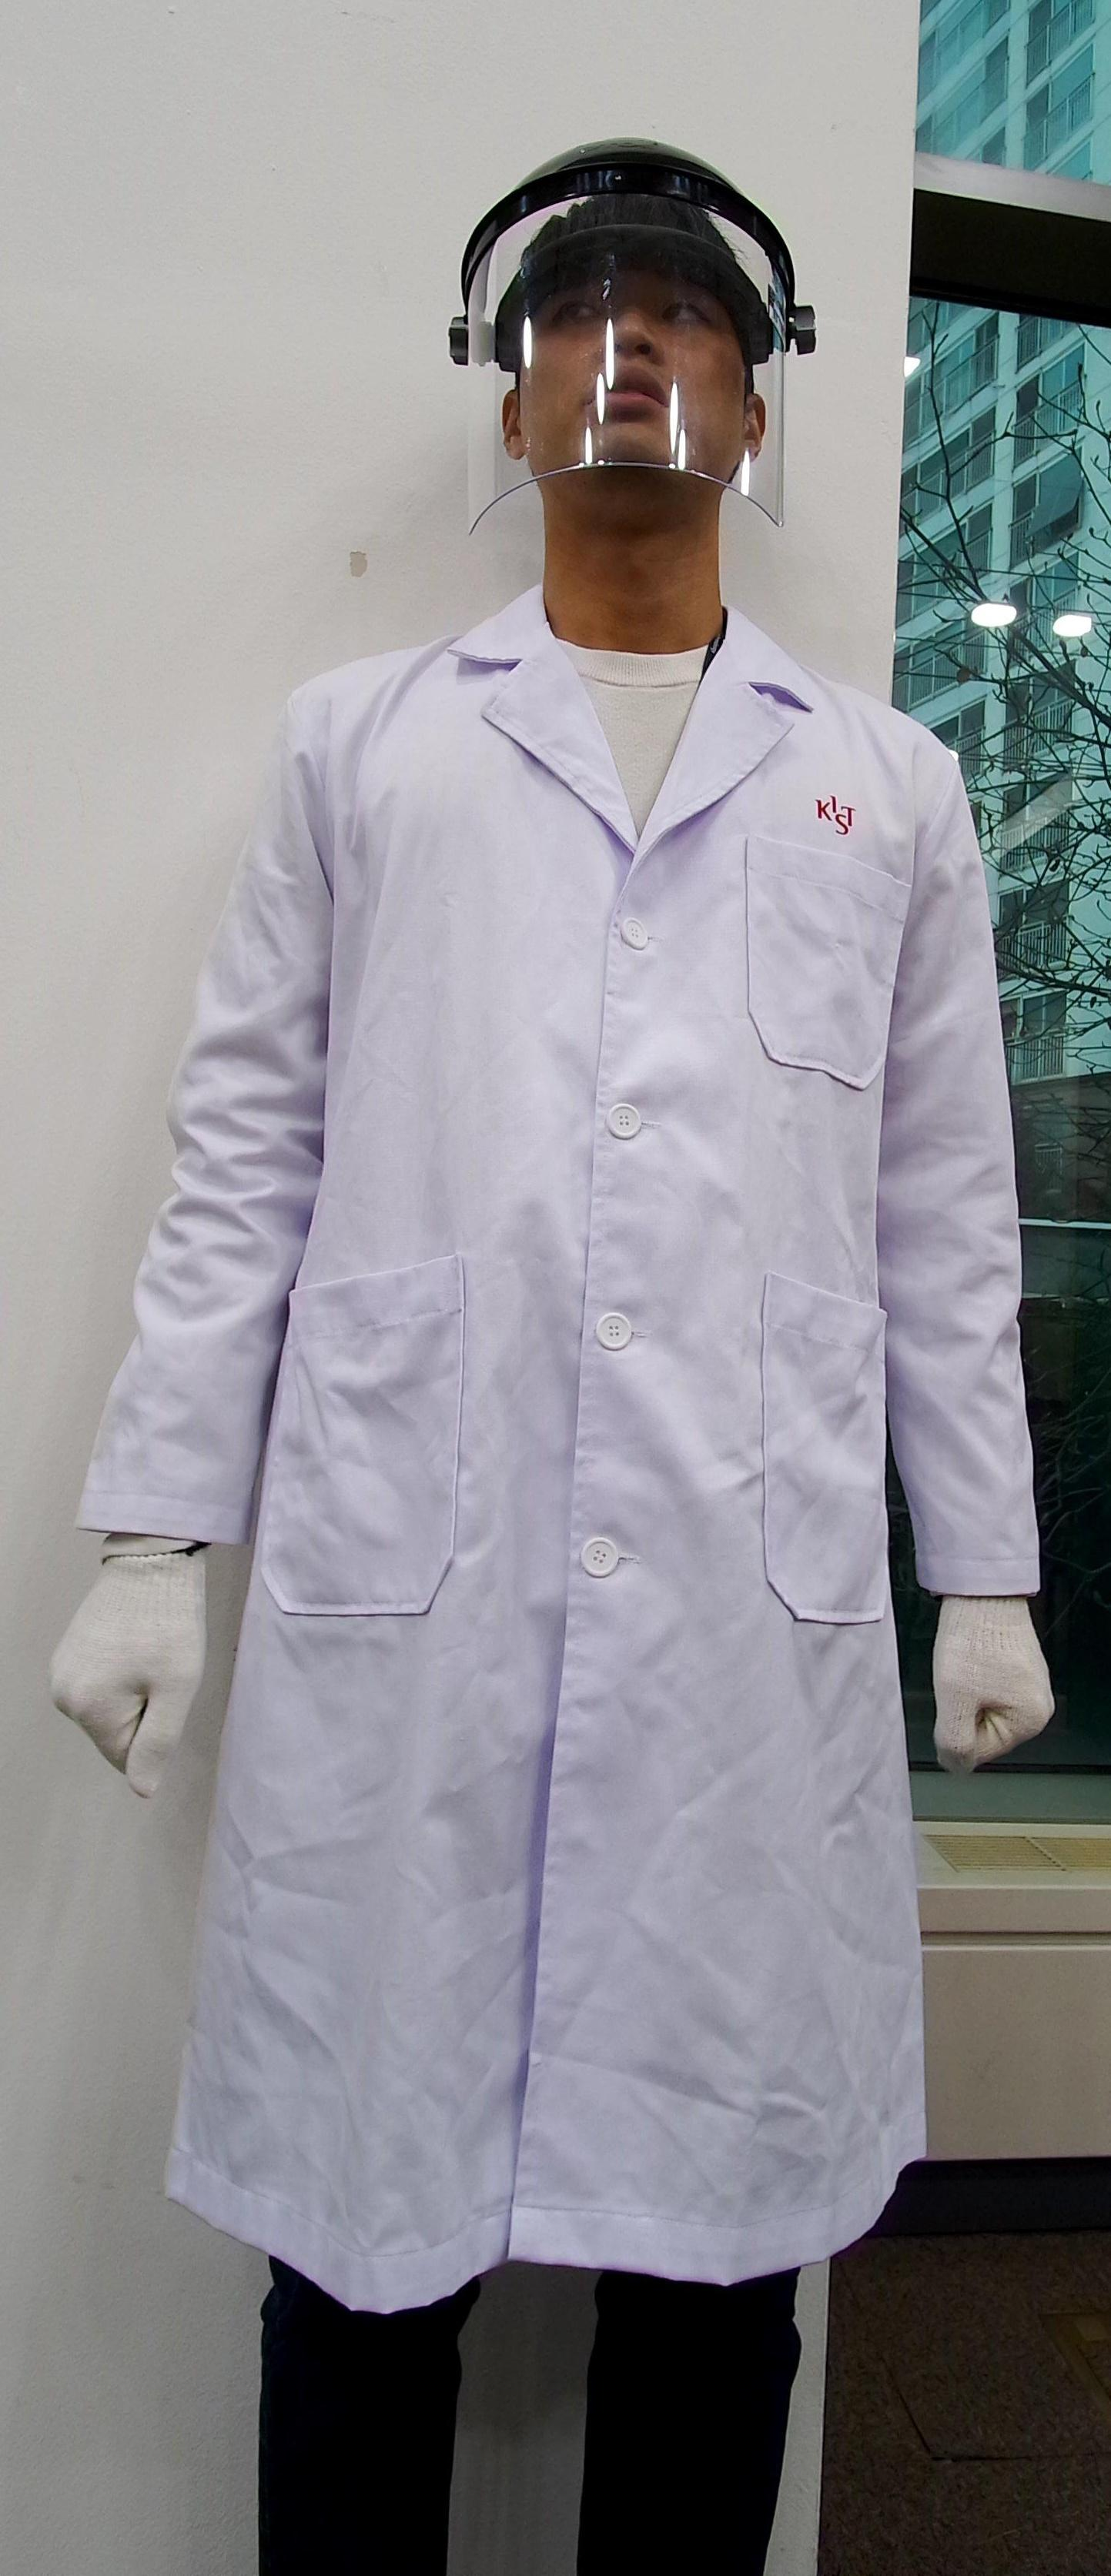lab_coat: (179, 655, 915, 2241)
